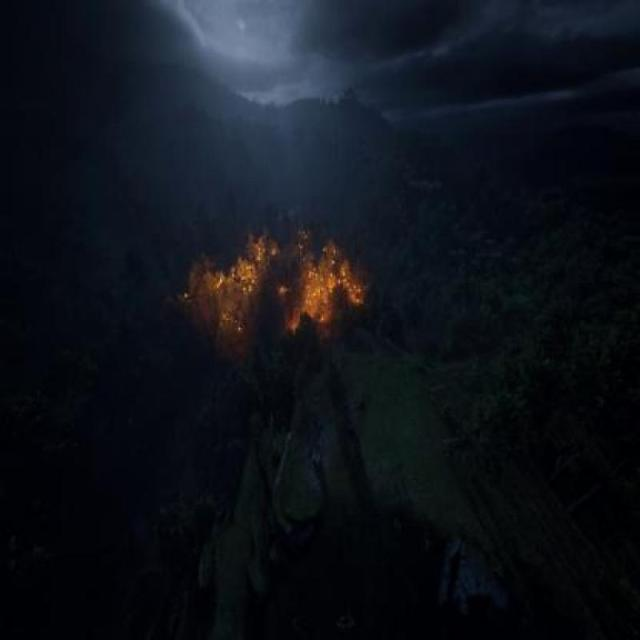Fire: (176, 222, 366, 372)
